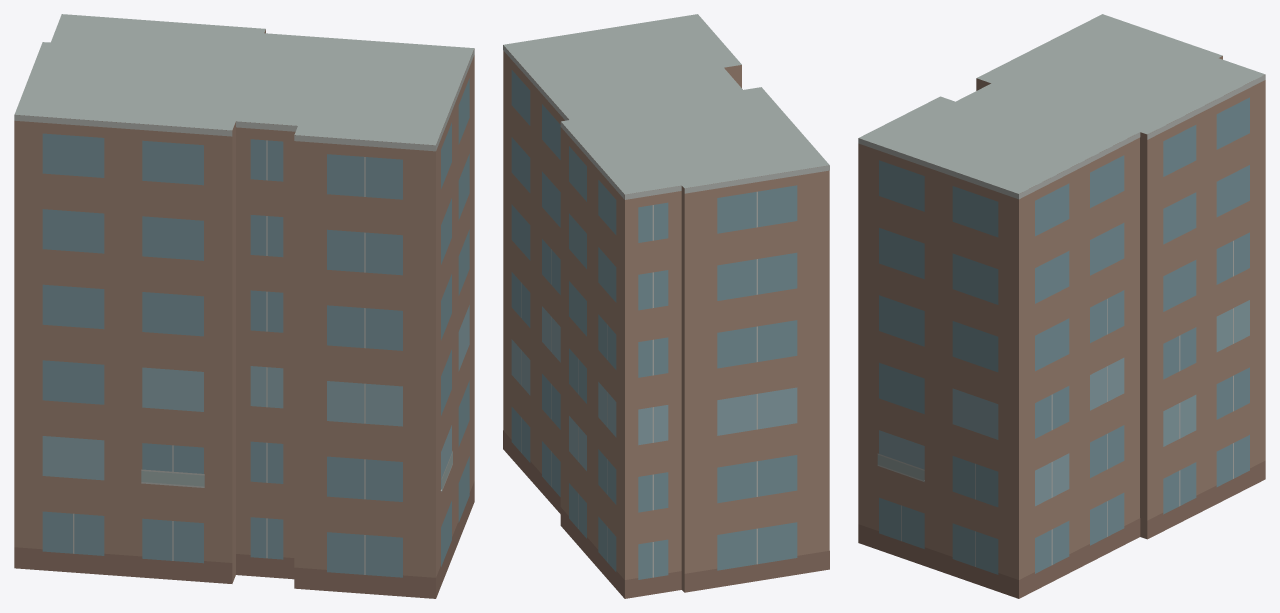
The model's file is survey-upis-32763555.glb.
3 views of the same model, side by side, from view 1: azimuth 30°, elevation 25°; view 2: azimuth 150°, elevation 25°; view 3: azimuth 270°, elevation 25° (orthographic). The views are drawn at different scales.
Visible parts, largest first — view 1: survey-upis-32763555.tmp; view 2: survey-upis-32763555.tmp; view 3: survey-upis-32763555.tmp.
Part boxes in pixels (box(x1,y1,x2,y2)): survey-upis-32763555.tmp: box(14, 14, 474, 598); survey-upis-32763555.tmp: box(503, 14, 829, 598); survey-upis-32763555.tmp: box(858, 14, 1265, 598).
Size of the model in its own units: 17.46 by 18.3 by 16.69.
